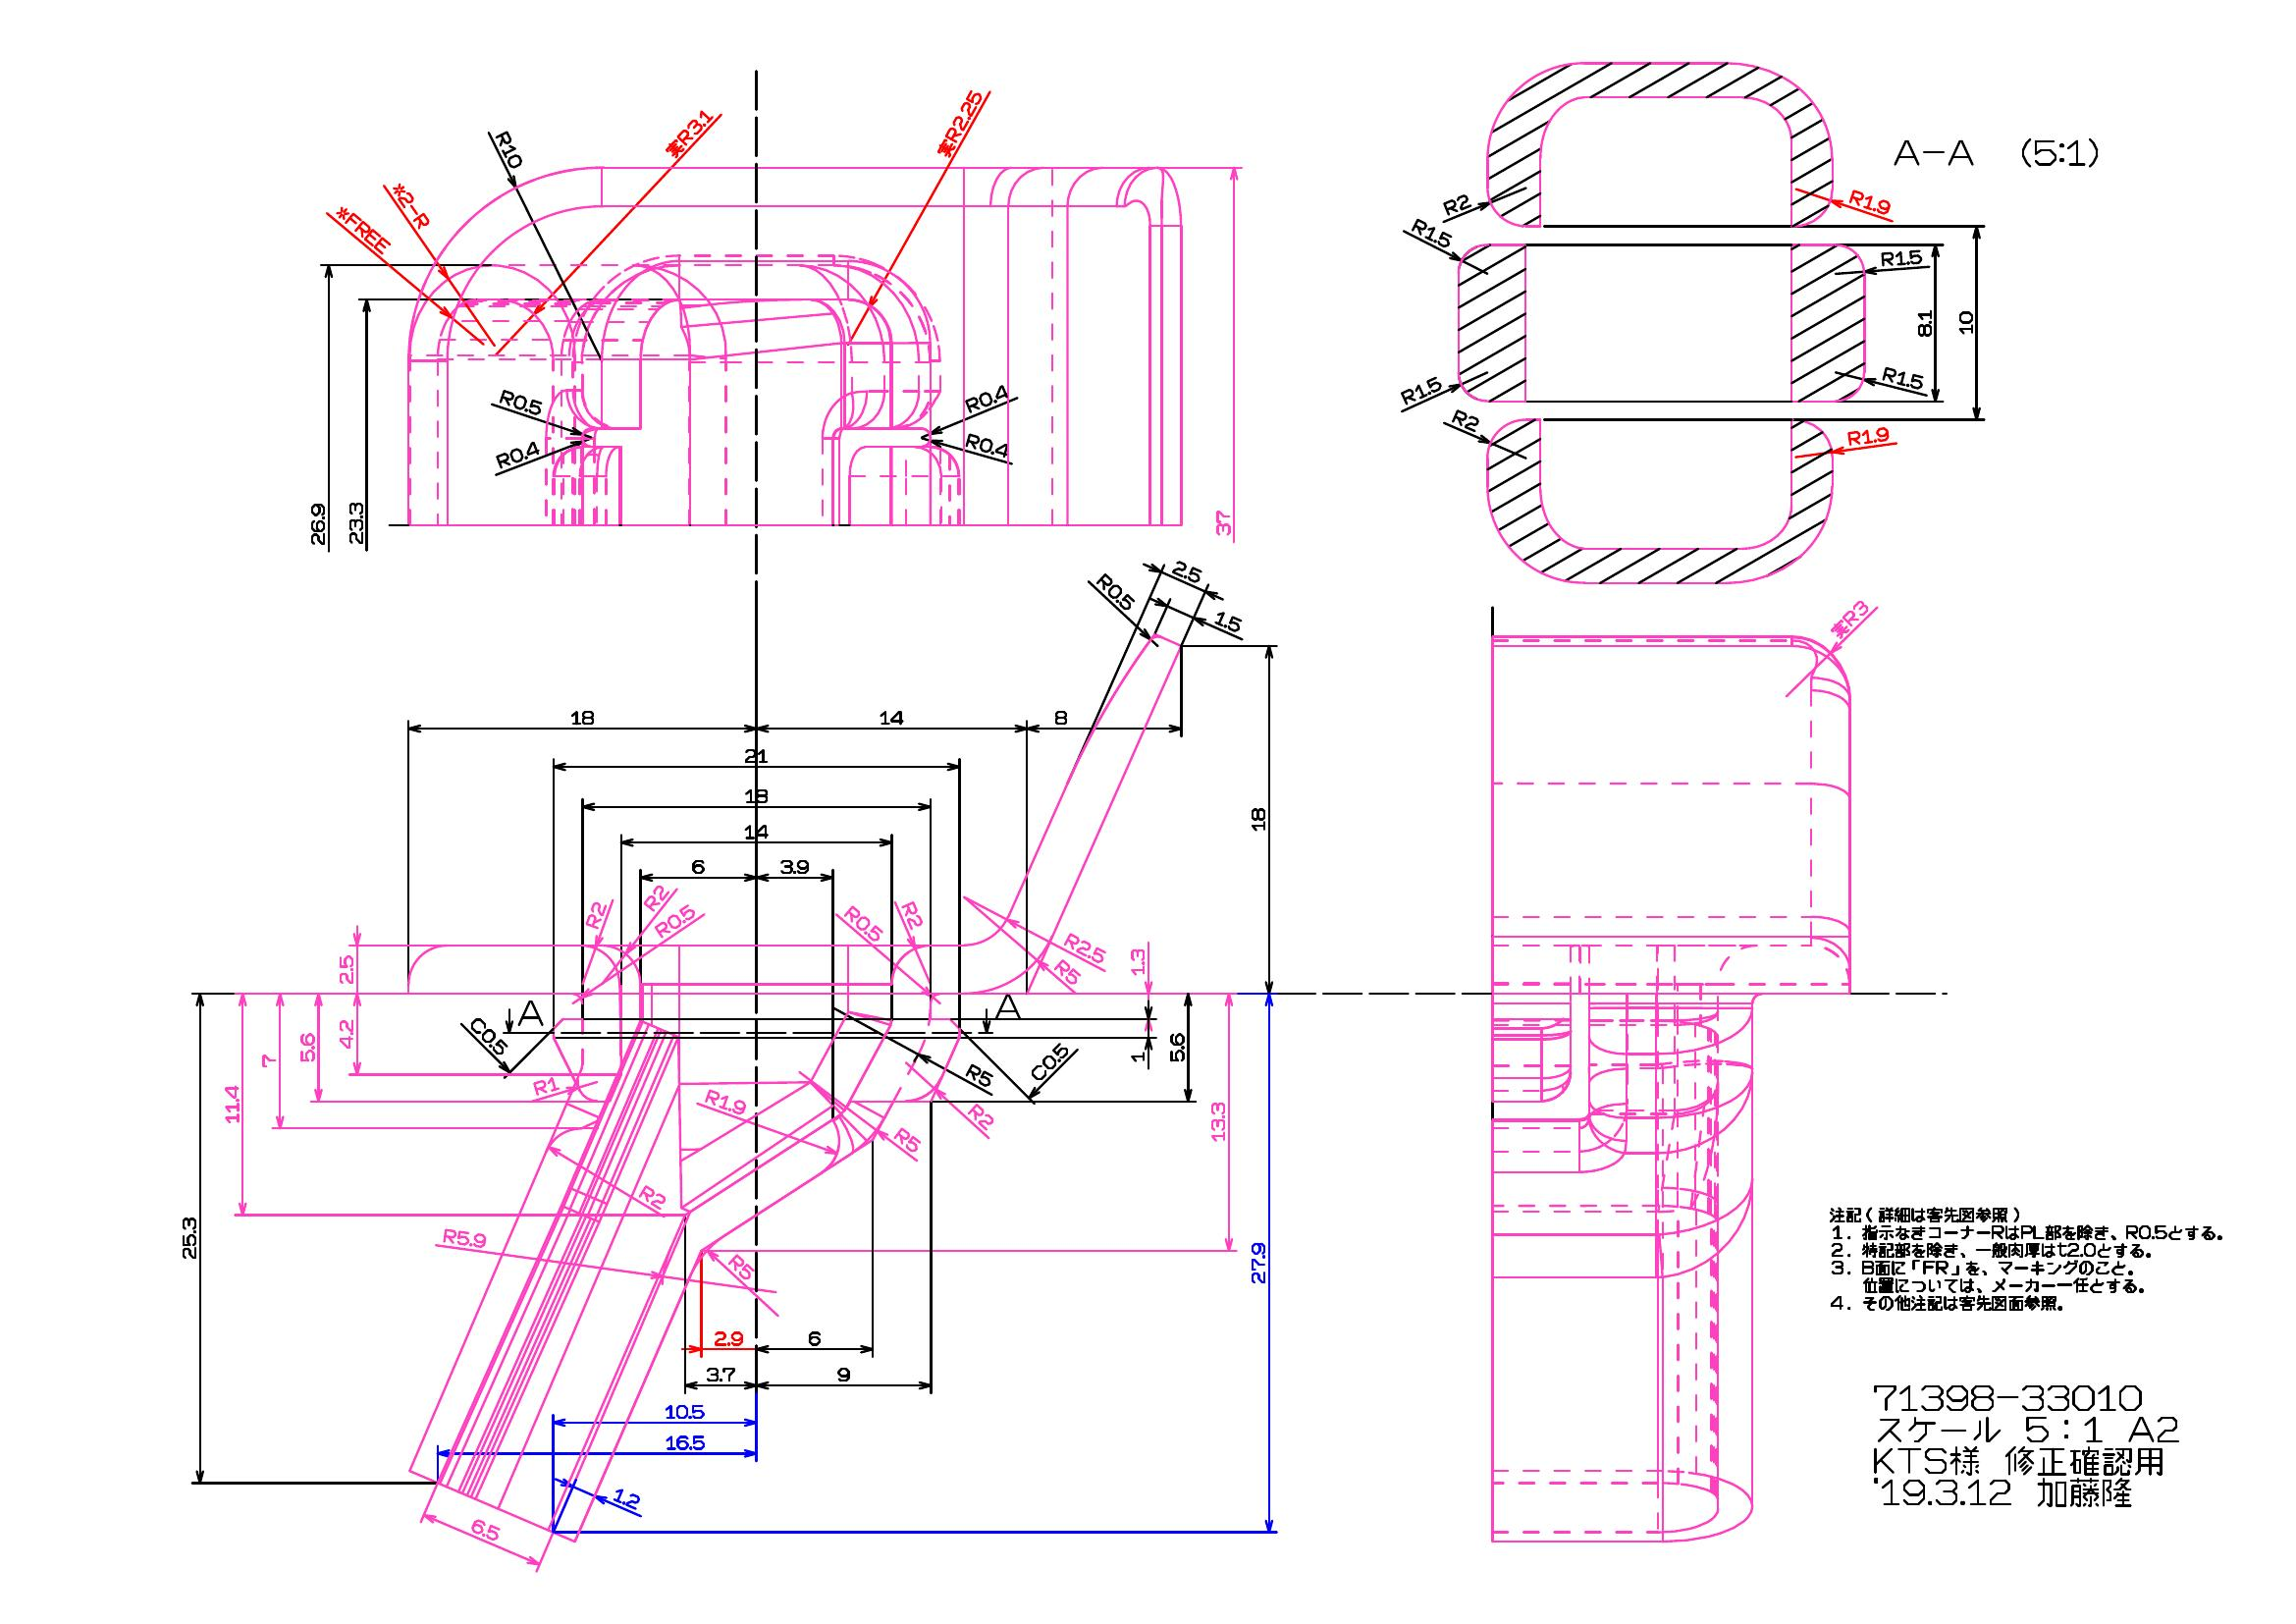anntotation_text: (1827, 1204, 2226, 1313), (1869, 1381, 2182, 1512), (1888, 132, 2101, 176), (516, 998, 545, 1028), (993, 993, 1022, 1018)
dimension_text: (950, 84, 970, 162), (680, 102, 697, 163), (355, 197, 371, 260), (1848, 190, 1894, 211), (1063, 937, 1108, 958), (1247, 1237, 1267, 1287), (402, 179, 420, 232), (466, 1025, 513, 1044), (964, 436, 1012, 455), (1107, 568, 1126, 613), (441, 1227, 487, 1246), (963, 390, 1012, 408), (1207, 1100, 1226, 1144), (497, 394, 545, 411), (1839, 596, 1857, 643), (1026, 1053, 1073, 1070), (1409, 223, 1455, 241), (1881, 369, 1925, 387), (1846, 427, 1890, 445), (1398, 381, 1442, 399), (703, 1093, 747, 1111), (664, 1403, 706, 1420), (664, 1432, 706, 1450), (652, 912, 697, 928), (495, 446, 541, 462), (348, 501, 364, 547), (309, 501, 325, 547), (181, 1214, 197, 1260), (841, 916, 885, 932), (1880, 250, 1924, 265), (638, 1186, 669, 1207), (502, 130, 518, 170), (467, 1520, 502, 1538), (223, 1084, 239, 1123), (337, 953, 355, 986), (299, 1032, 316, 1065), (611, 1489, 641, 1508), (964, 1067, 996, 1084), (966, 1107, 998, 1125), (892, 1132, 924, 1149), (713, 1329, 745, 1346), (1170, 564, 1203, 580), (778, 858, 812, 874), (1214, 508, 1231, 538), (1451, 411, 1481, 429), (1052, 963, 1082, 981), (727, 1258, 757, 1276), (741, 787, 771, 805), (706, 1366, 736, 1383), (1168, 1032, 1186, 1062), (339, 1018, 355, 1049), (587, 900, 604, 928), (1957, 309, 1975, 337), (1442, 195, 1470, 213), (741, 747, 769, 765), (905, 900, 921, 930), (641, 889, 671, 905), (1917, 308, 1932, 337), (531, 1077, 560, 1093), (878, 708, 905, 726), (743, 823, 769, 840), (1214, 613, 1242, 629), (1130, 947, 1145, 975), (1249, 807, 1267, 831), (569, 708, 596, 724), (689, 858, 706, 875), (260, 1053, 278, 1070), (1052, 708, 1068, 726), (806, 1329, 822, 1346), (834, 1366, 850, 1383), (1130, 1051, 1145, 1062)
object: (399, 631, 1189, 1547), (1484, 631, 1855, 1545), (402, 162, 1188, 531), (1455, 56, 1869, 587)
